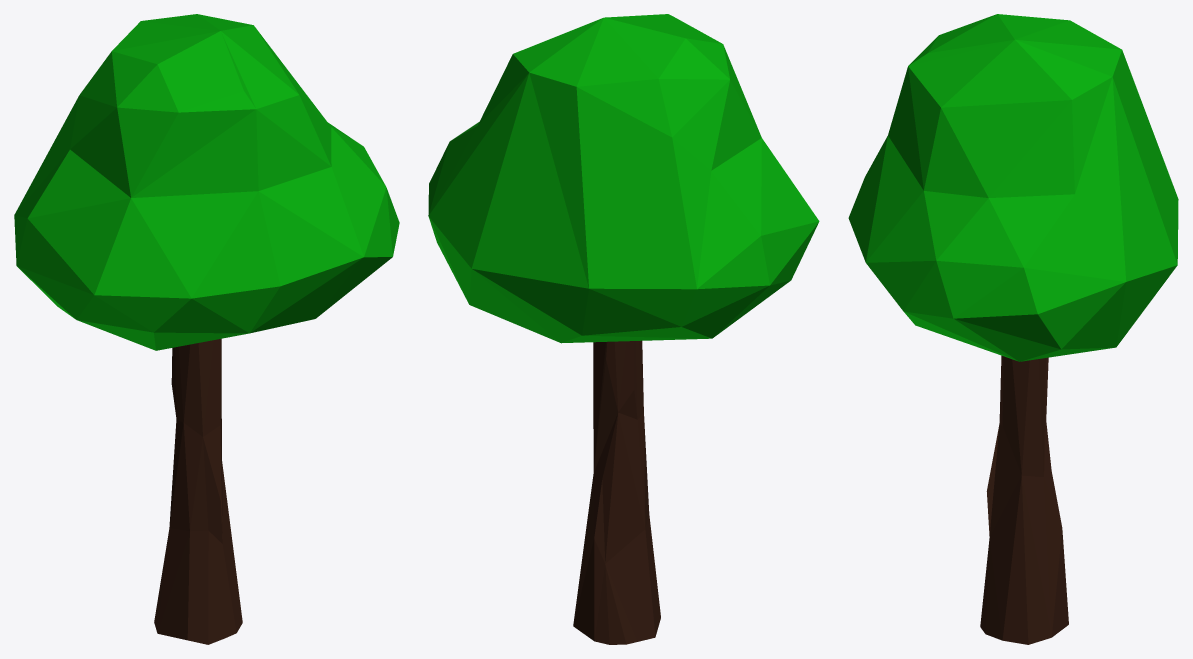
File: baum3-2.fbx
3 renders of one model, left to right at view 1: azimuth 30°, elevation 25°; view 2: azimuth 150°, elevation 25°; view 3: azimuth 270°, elevation 25°, orthographic.
Visible parts, largest first — view 1: Sphere, Cylinder; view 2: Sphere, Cylinder; view 3: Sphere, Cylinder.
Part boxes in pixels (box(x1,y1,x2,y2)): Sphere: box(14, 14, 399, 350); Cylinder: box(154, 338, 242, 644); Sphere: box(428, 14, 819, 343); Cylinder: box(573, 340, 660, 644); Sphere: box(848, 14, 1178, 361); Cylinder: box(980, 355, 1068, 644).
Size of the model in its own units: 1729 by 2846 by 1427.
